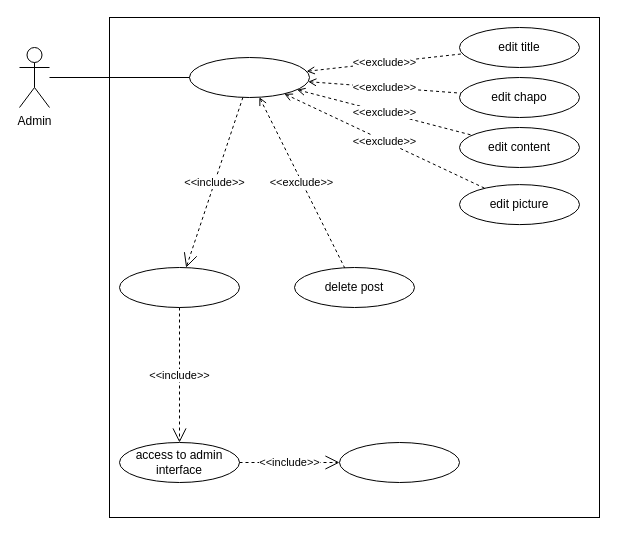
Image size: 617x535. Some labels were removed from this diagram. Each missing label, with the centre of its shape:
"access to blog post list" goes at point 179,287.
"Authentification" goes at point 399,462.
"edit a post" goes at point 249,77.
